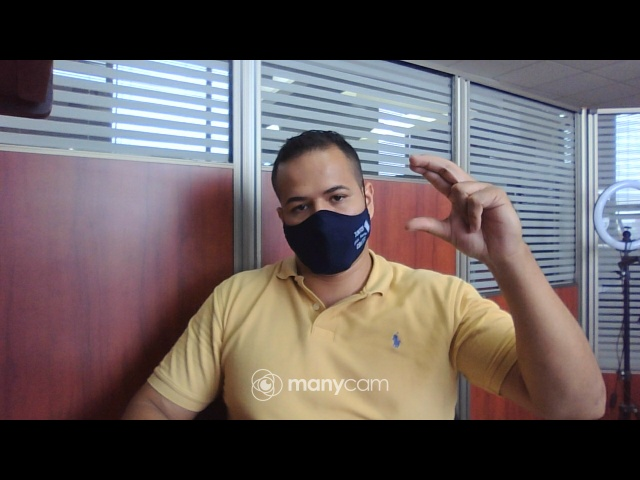No: (405, 153, 543, 262)
